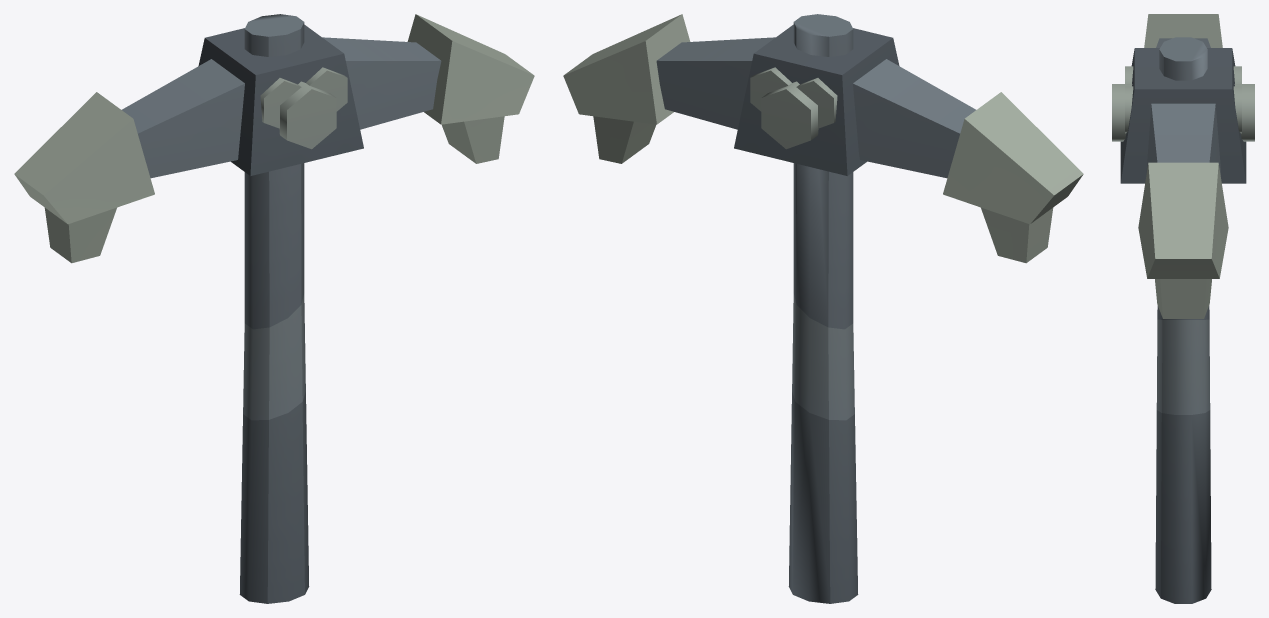
File: 06_pickaxe_Silver.fbx
The picture shows the model from 3 angles, left to right: view 1: azimuth 30°, elevation 25°; view 2: azimuth 150°, elevation 25°; view 3: azimuth 270°, elevation 25°; orthographic projection. The views are drawn at different scales.
Parts seen in each view (by area): view 1: 06_pickaxe_Silver; view 2: 06_pickaxe_Silver; view 3: 06_pickaxe_Silver.
Boxes of the visible parts, box(x1,y1,x2,y2) form: 06_pickaxe_Silver: box(14, 14, 534, 603); 06_pickaxe_Silver: box(563, 14, 1083, 603); 06_pickaxe_Silver: box(1112, 14, 1254, 603).
Bounding box in the file's own units: 102 × 112 × 26.76.
